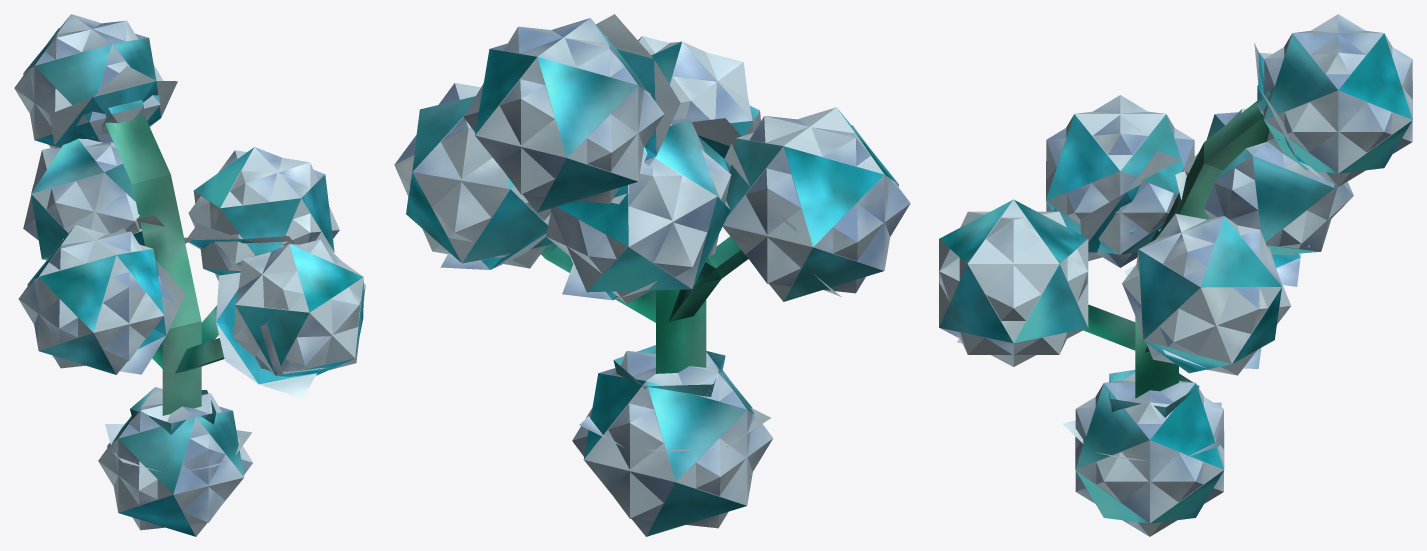
Rendered from flowers.fbx.
3 views of the same model, side by side, from view 1: azimuth 30°, elevation 25°; view 2: azimuth 150°, elevation 25°; view 3: azimuth 270°, elevation 25° (orthographic). The views are drawn at different scales.
Parts seen in each view (by area): view 1: Marygold type, Marygold Type, Marygold Type_1, cylinder, Pedal type, Generic ass pedal type_1, Stalk 1, Buttercup Type_2, Buttercup Type_1, Buttercup Type, Generic ass pedal type; view 2: Marygold type, Marygold Type_1, Marygold Type, Pedal type, Stalk 1, cylinder, Generic ass pedal type_1, Buttercup Type, Generic ass pedal type; view 3: Marygold type, Marygold Type_1, Marygold Type, cylinder, Pedal type, Stalk 1, Generic ass pedal type_1, Buttercup Type.
Boxes of the visible parts, x1,y1,x2,y2 form: Marygold type: (18, 138, 365, 376); Marygold Type: (98, 387, 252, 536); Marygold Type_1: (14, 14, 163, 147); cylinder: (105, 114, 201, 415); Pedal type: (52, 215, 316, 398); Generic ass pedal type_1: (49, 66, 177, 148); Stalk 1: (152, 305, 224, 373); Buttercup Type_2: (92, 100, 144, 137); Buttercup Type_1: (255, 318, 326, 374); Buttercup Type: (130, 389, 216, 434); Generic ass pedal type: (105, 424, 251, 471); Marygold type: (394, 36, 910, 304); Marygold Type_1: (463, 18, 664, 212); Marygold Type: (572, 351, 773, 536); Pedal type: (440, 118, 841, 300); Stalk 1: (540, 236, 748, 322); cylinder: (656, 289, 706, 373); Generic ass pedal type_1: (596, 14, 680, 204); Buttercup Type: (613, 345, 725, 396); Generic ass pedal type: (579, 407, 770, 451); Marygold type: (939, 95, 1353, 375); Marygold Type_1: (1264, 14, 1412, 186); Marygold Type: (1075, 373, 1224, 536); cylinder: (1135, 101, 1269, 398); Pedal type: (957, 151, 1301, 368); Stalk 1: (1083, 229, 1160, 352); Generic ass pedal type_1: (1254, 43, 1332, 187); Buttercup Type: (1109, 370, 1199, 417).
Size of the model in its own units: 0.7253 by 0.9204 by 0.815.
Materials: 3 (3 with a texture image).
